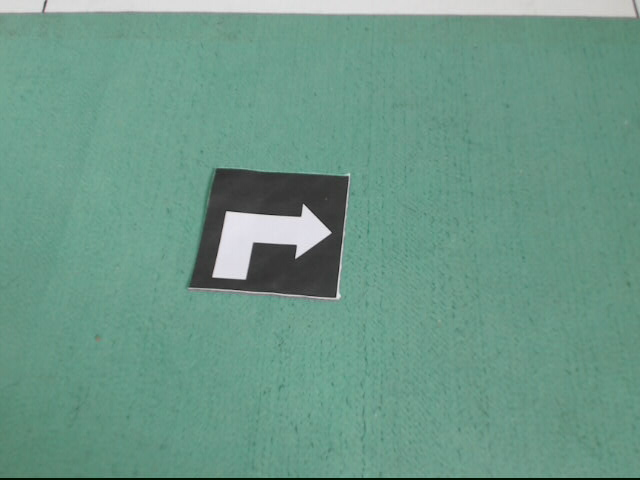right: (185, 167, 353, 300)
